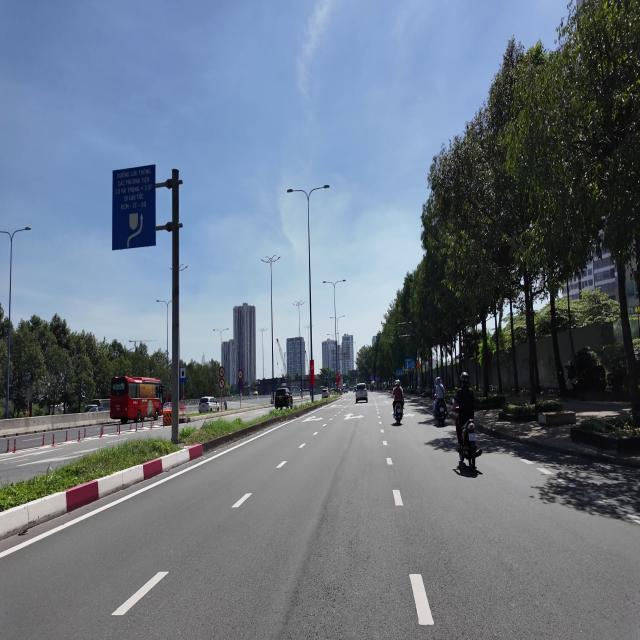car: (275, 388, 293, 408), (199, 397, 219, 412), (356, 383, 367, 402), (322, 388, 329, 398)
motorcycle: (456, 408, 481, 470), (434, 398, 448, 425), (394, 402, 403, 424)
